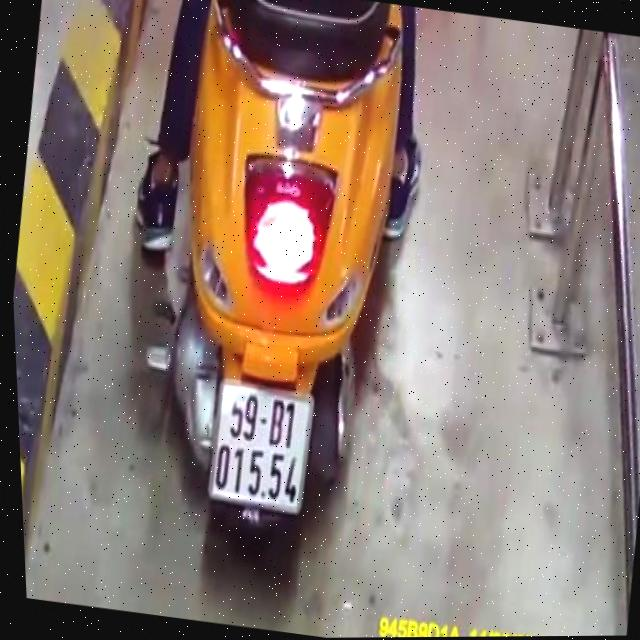motorcycle: (106, 0, 454, 571)
plate: (190, 370, 330, 523)
